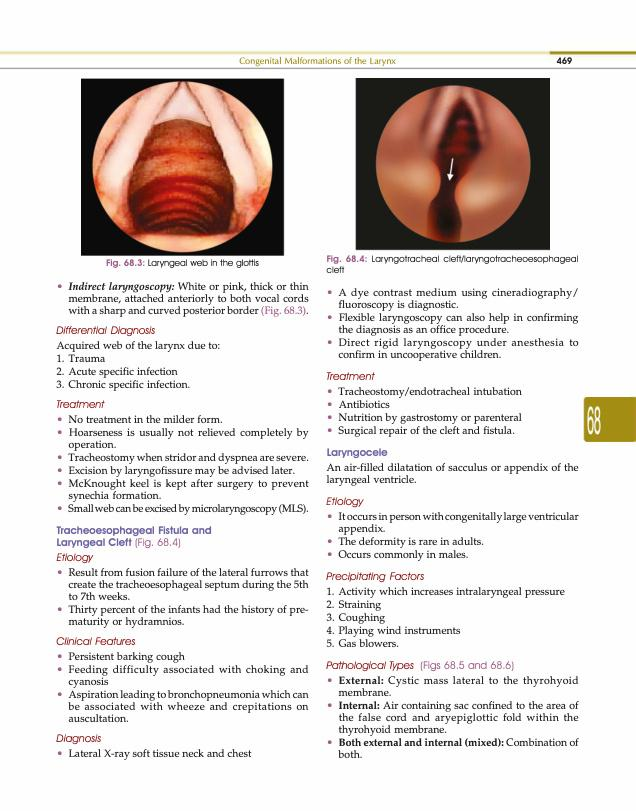caption: (325, 254, 579, 274), (105, 258, 260, 269)
header: (238, 55, 397, 68)
image: (80, 77, 285, 256), (355, 77, 551, 251)
list: (56, 414, 310, 517), (326, 674, 583, 759), (325, 286, 580, 363), (55, 650, 310, 724), (56, 566, 311, 630), (325, 585, 566, 649), (326, 511, 581, 562), (326, 385, 523, 439), (56, 280, 310, 319), (55, 353, 190, 392), (56, 747, 253, 761)
sub-section-heading: (55, 524, 212, 550), (324, 570, 426, 583), (55, 325, 156, 338), (325, 660, 415, 672), (55, 635, 136, 646), (326, 446, 389, 459), (55, 733, 102, 745), (326, 371, 376, 382), (324, 495, 365, 508), (56, 399, 106, 409), (55, 552, 94, 564)
text: (325, 461, 579, 487), (55, 340, 221, 353)
